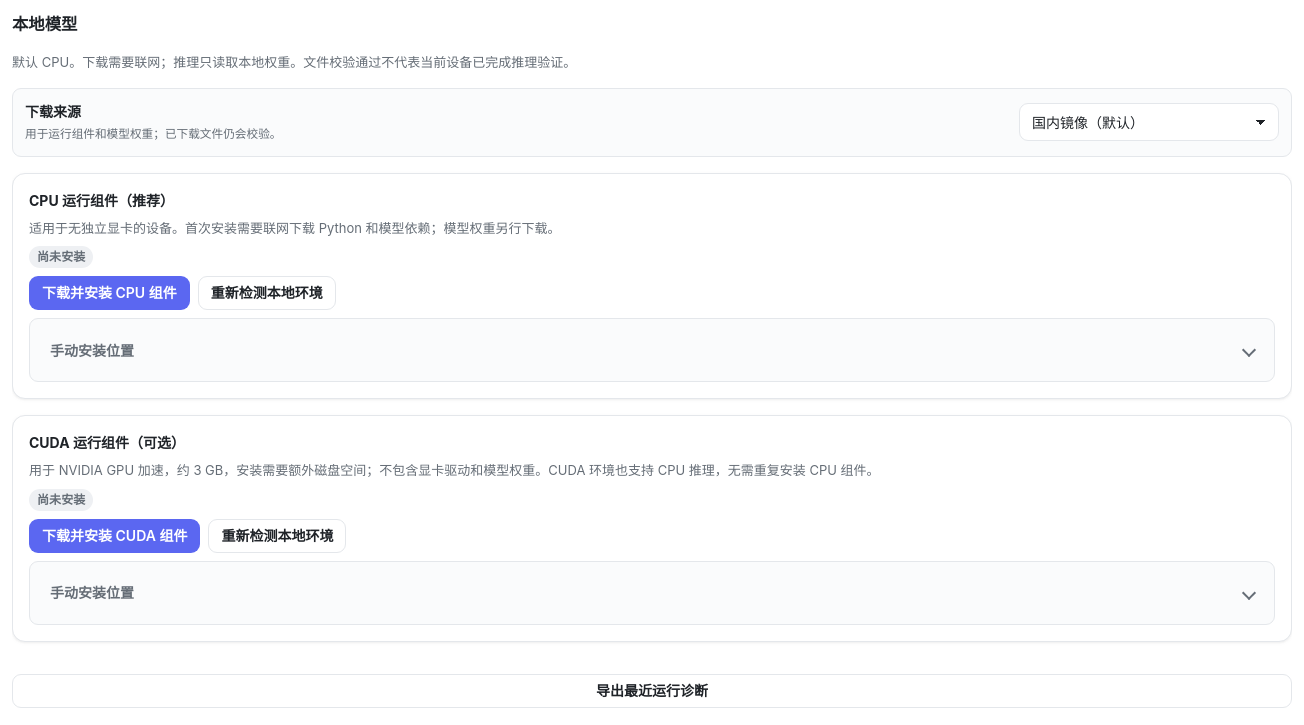
Test: shows an optional CUDA installer and live installation stage
The width and height of the screenshot is (1304, 725).
What coordinates should you click on to do the following:
click the button "下载并安装 CUDA 组件"
I would click on:
 (115, 536)
Its box is [29,519,200,553].
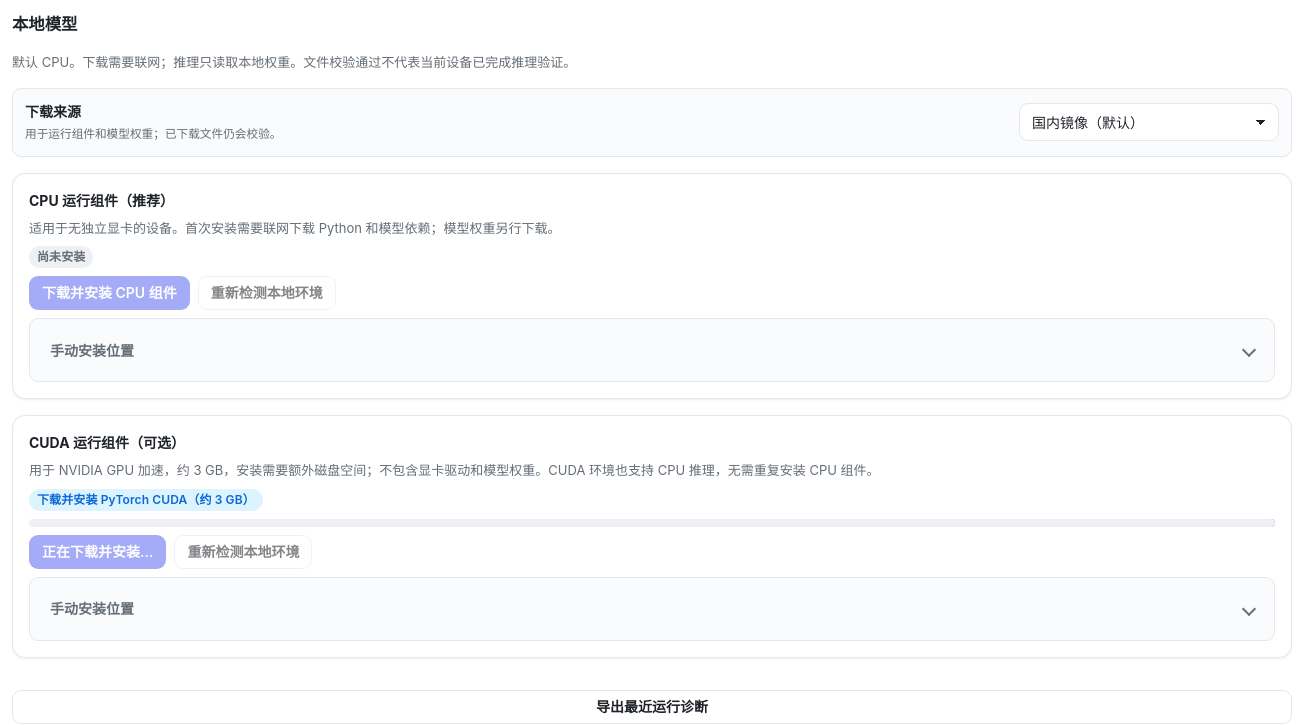
Expected: the text "下载并安装 PyTorch CUDA" is shown, [37,492,255,507]
Expected: the button "正在下载并安装…" is disabled, [29,535,166,569]
